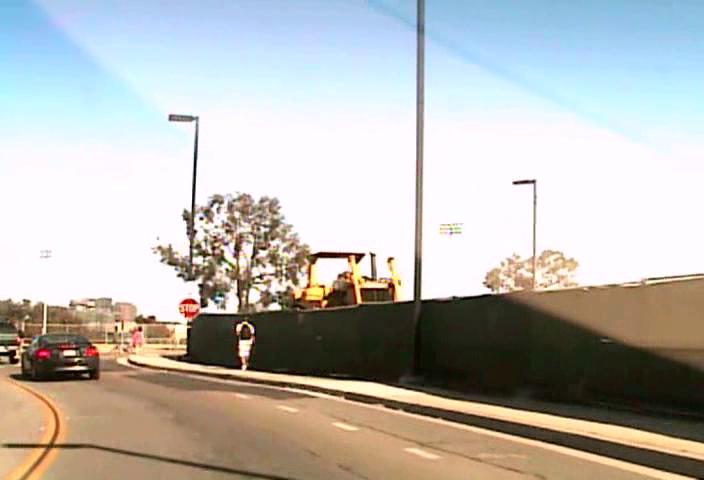stop: (178, 298, 199, 318)
